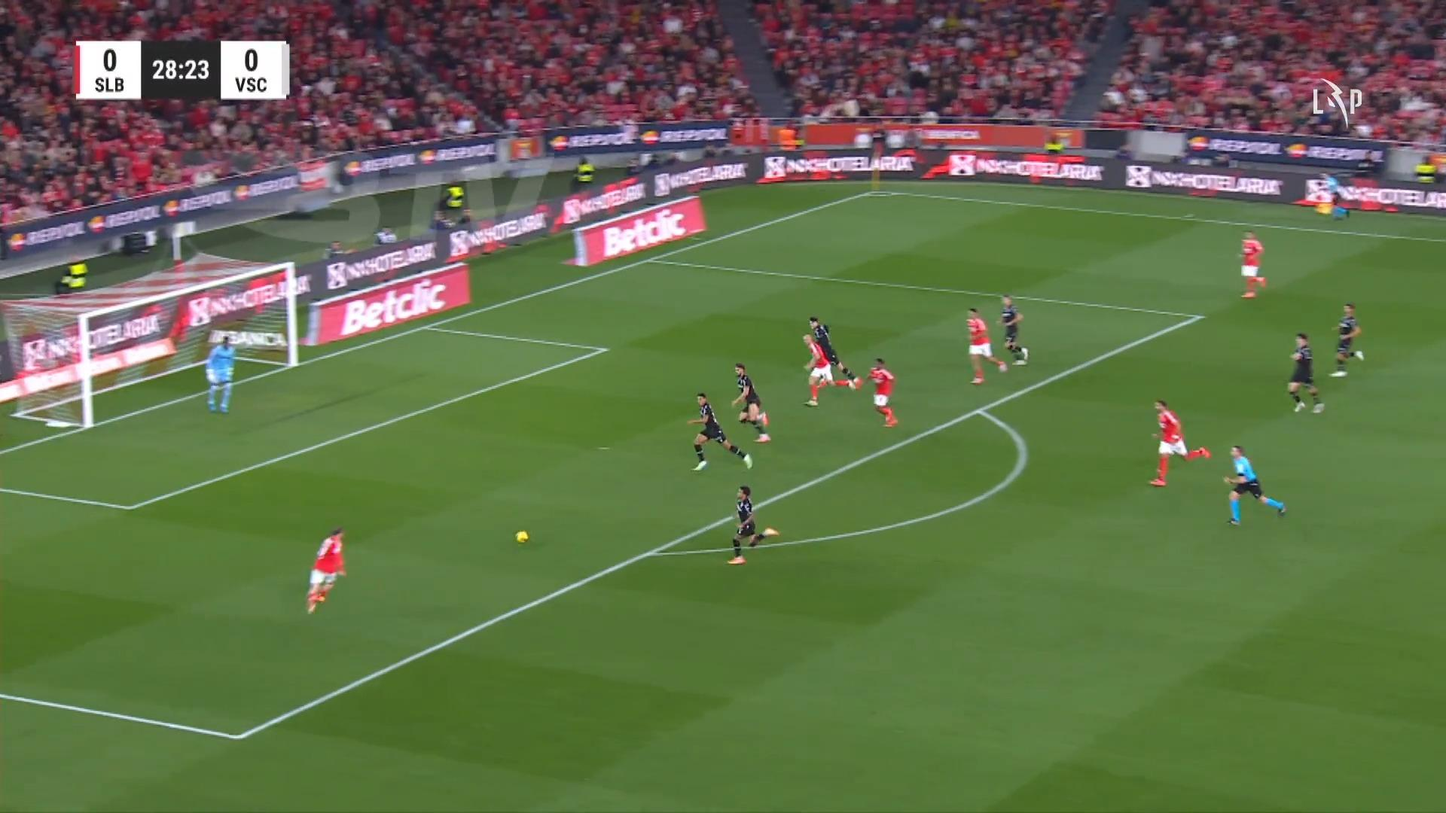ball: (515, 530, 528, 542)
goalkeeper: (204, 334, 236, 413)
player: (1148, 398, 1210, 486), (686, 391, 752, 471), (807, 315, 861, 390), (305, 525, 346, 614), (965, 306, 1007, 384), (731, 362, 771, 443), (1286, 331, 1325, 413), (726, 485, 761, 565), (1328, 302, 1364, 376), (801, 333, 836, 406), (867, 357, 898, 427), (999, 294, 1029, 365), (1238, 230, 1266, 298)
referee: (1222, 444, 1286, 525), (1315, 171, 1350, 221)
